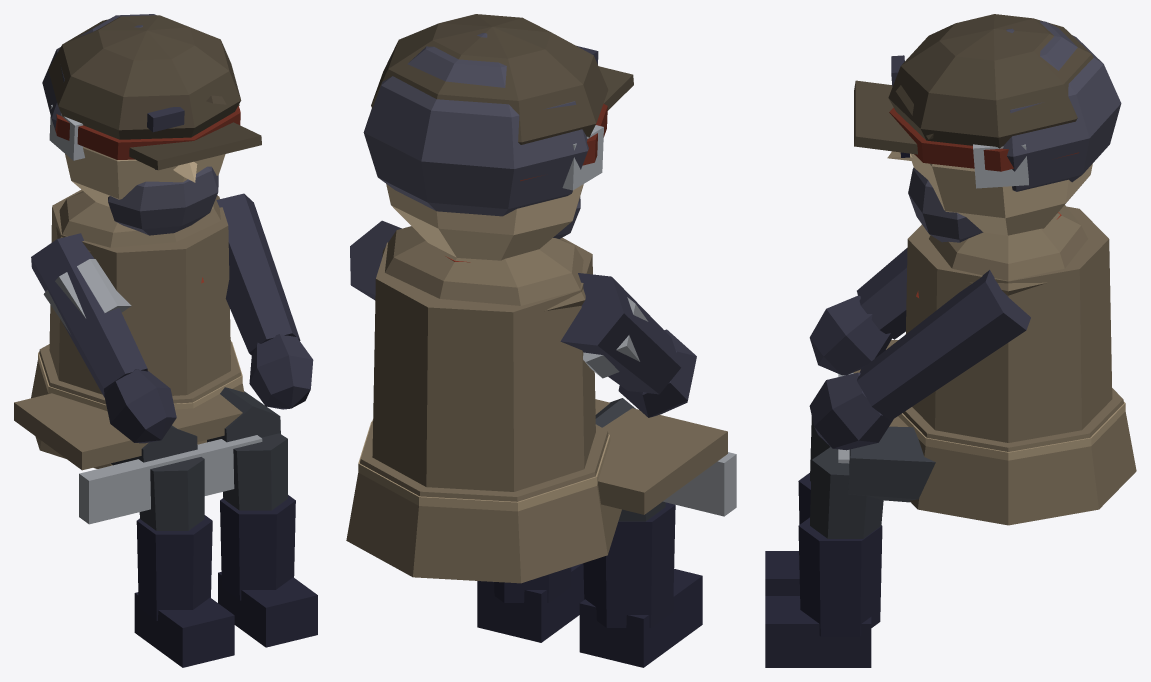
Rendered from ottie_home_cap.glb.
3 renders of one model, left to right at view 1: azimuth 30°, elevation 25°; view 2: azimuth 150°, elevation 25°; view 3: azimuth 270°, elevation 25°, orthographic. The views are drawn at different scales.
Parts seen in each view (by area): view 1: Head, LegL, Torso, LegR, ArmR, ArmL; view 2: Torso, Head, LegL, LegR, ArmR, ArmL; view 3: Torso, Head, LegL, ArmL, ArmR, LegR.
Part boxes in pixels (left/top/right/bottom): Head: left=42, top=14, right=261, bottom=235; LegL: left=14, top=387, right=317, bottom=647; Torso: left=31, top=189, right=244, bottom=468; LegR: left=111, top=425, right=234, bottom=667; ArmR: left=31, top=233, right=176, bottom=443; ArmL: left=216, top=193, right=313, bottom=409; Torso: left=346, top=226, right=621, bottom=583; Head: left=363, top=14, right=633, bottom=260; LegL: left=477, top=399, right=736, bottom=642; LegR: left=579, top=398, right=702, bottom=667; ArmR: left=560, top=273, right=696, bottom=417; ArmL: left=350, top=220, right=401, bottom=300; Torso: left=898, top=205, right=1136, bottom=525; Head: left=854, top=14, right=1121, bottom=242; LegL: left=765, top=340, right=935, bottom=667; ArmL: left=809, top=270, right=1030, bottom=450; ArmR: left=809, top=247, right=907, bottom=375; LegR: left=765, top=416, right=830, bottom=595.
Size of the model in its own units: 0.6916 by 1.5 by 0.84.
